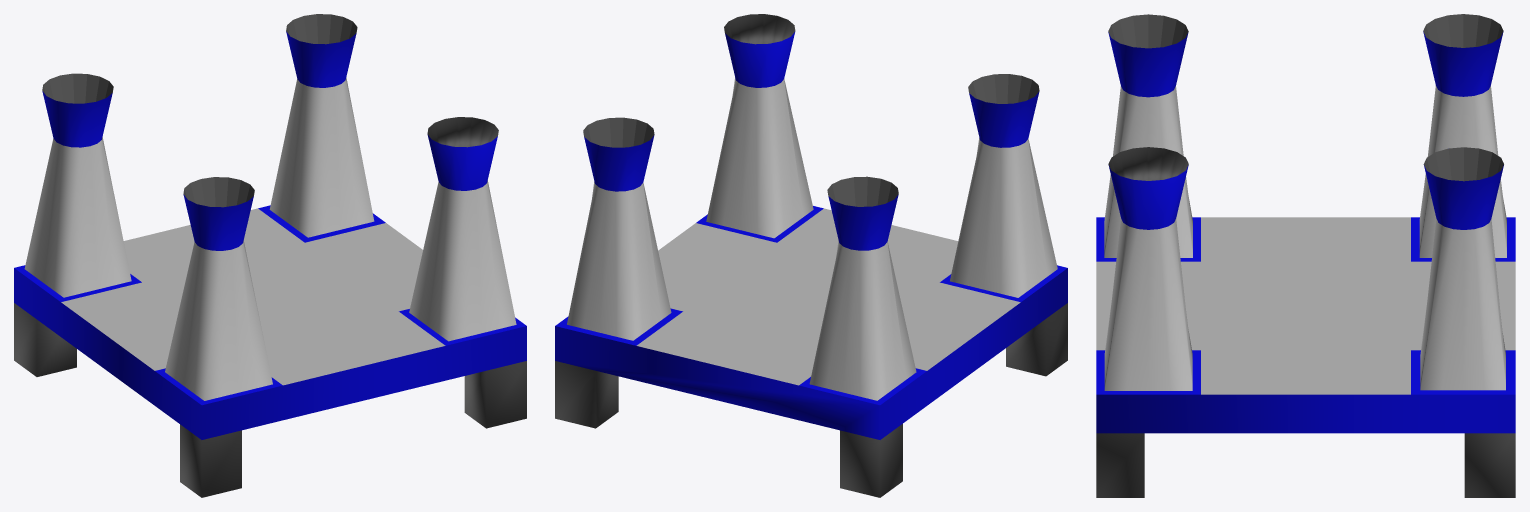
File: WarBaseBlue.fbx
The picture shows the model from 3 angles, left to right: view 1: azimuth 30°, elevation 25°; view 2: azimuth 150°, elevation 25°; view 3: azimuth 270°, elevation 25°; orthographic projection. The views are drawn at different scales.
Parts seen in each view (by area): view 1: pCylinder5; view 2: pCylinder5; view 3: pCylinder5.
Boxes of the visible parts, bbox=[...] form: pCylinder5: bbox=[14, 14, 526, 497]; pCylinder5: bbox=[555, 14, 1067, 497]; pCylinder5: bbox=[1096, 14, 1515, 497].
Bounding box in the file's own units: 3.67 × 3.01 × 3.67.
